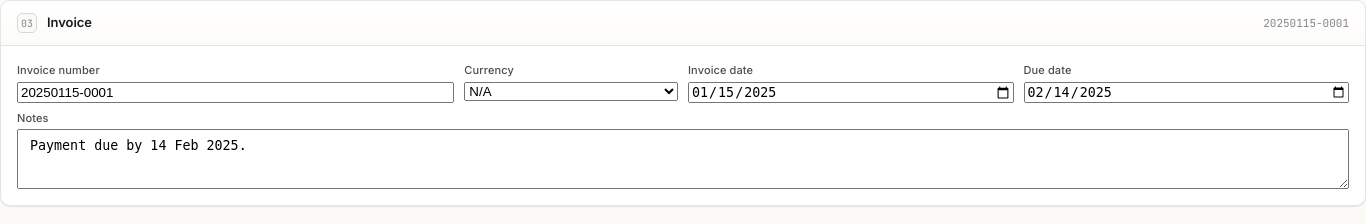
Test case: InvoiceDetailsForm › falls back to generic notes when the due date is cleared
Clear the date field labelled "Due date" at x=1186, y=92, box [1024, 82, 1349, 103]
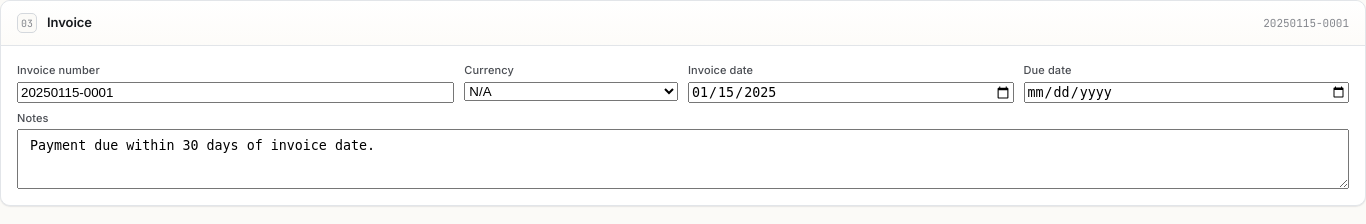
Expected: the text box labelled "Notes" holds "Payment due within 30 days of invoice date.", [17, 129, 1349, 189]
